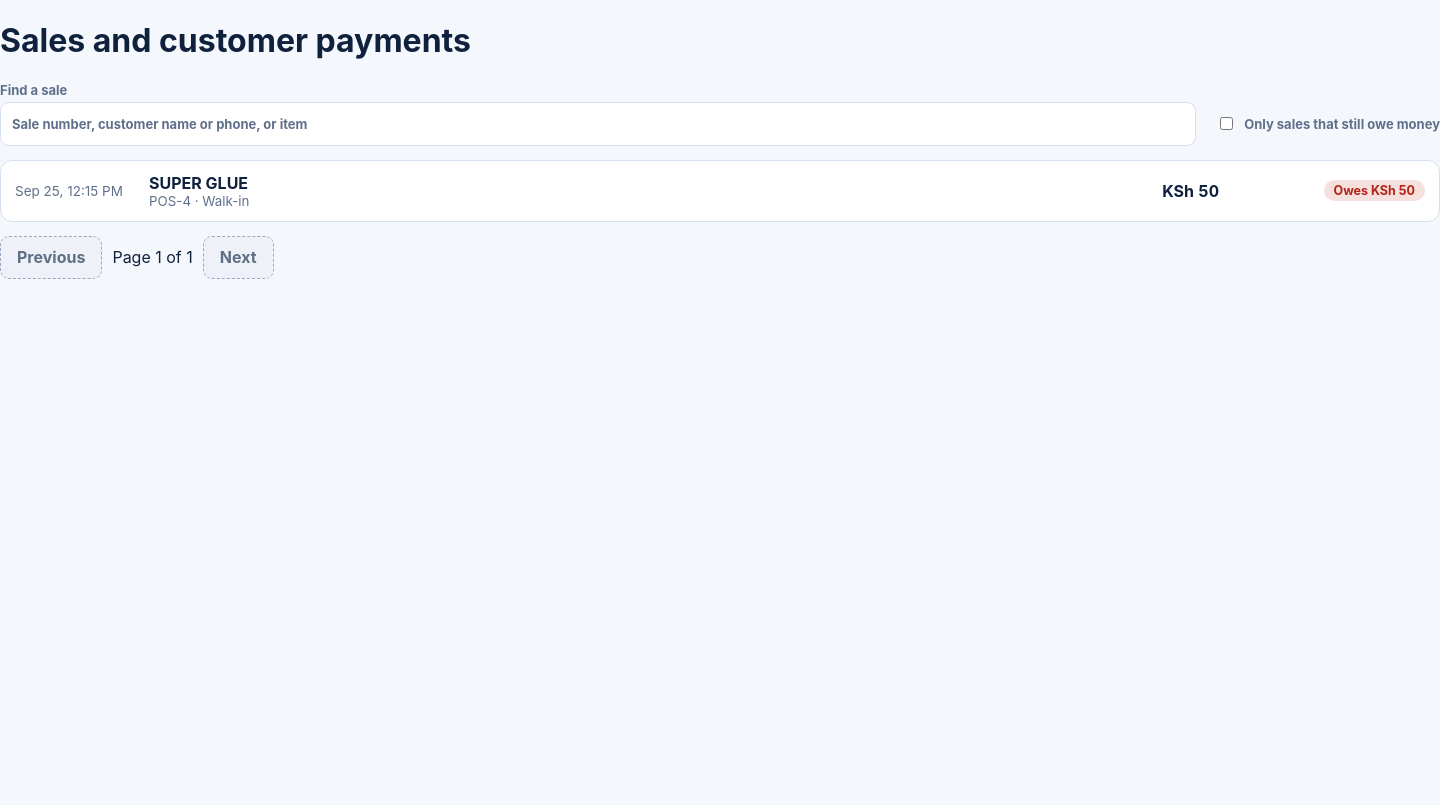
Scenario: lets a Walk-in debt be put under the customer who owes it
The image size is (1440, 805).
Click the heading that starts with "Sep 25, 12:15 PM". click: (69, 191)
box: [1,161,1439,221]
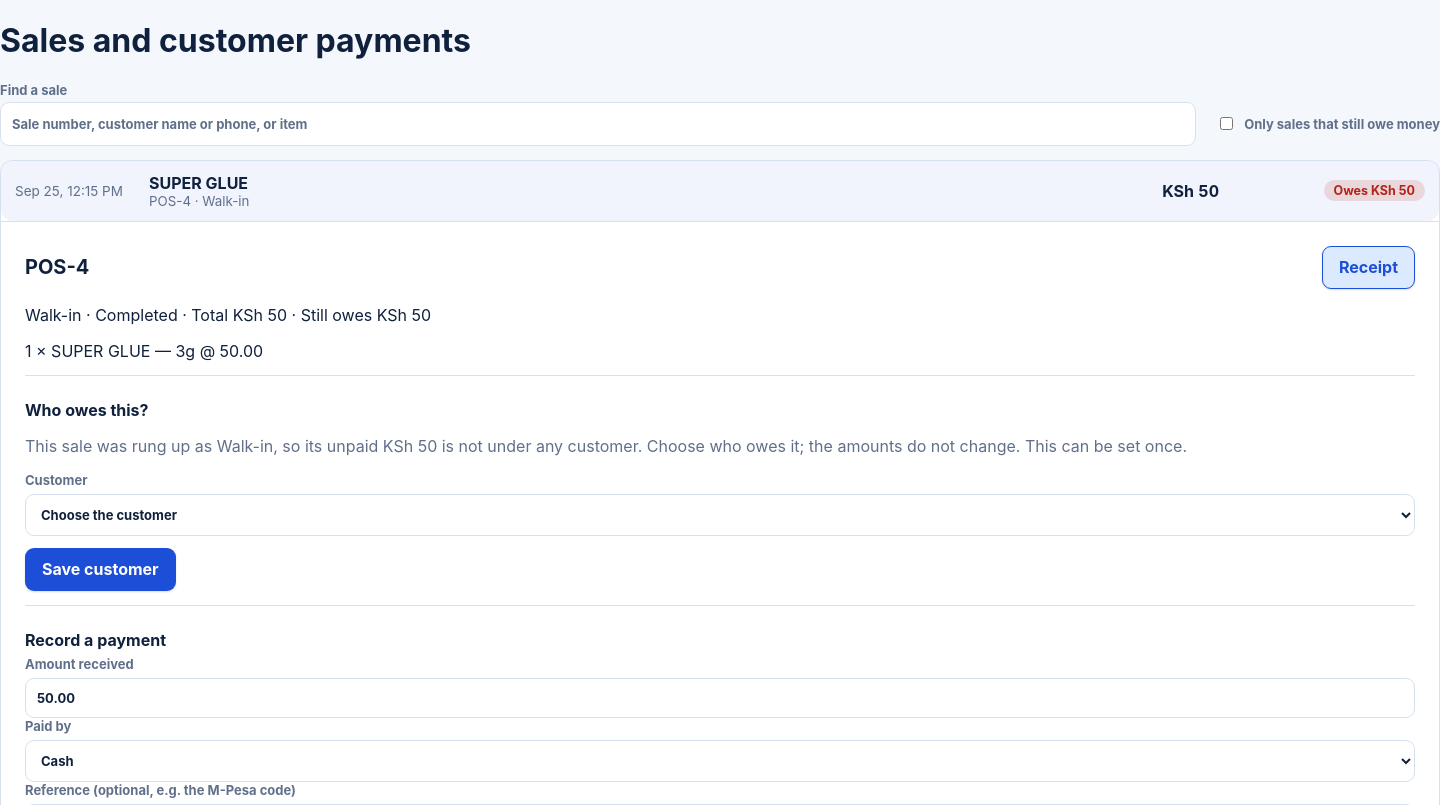
Select "John Otieno · 0712345678" in the dropdown labelled "Customer". click: (720, 515)
box: [25,494,1415,536]
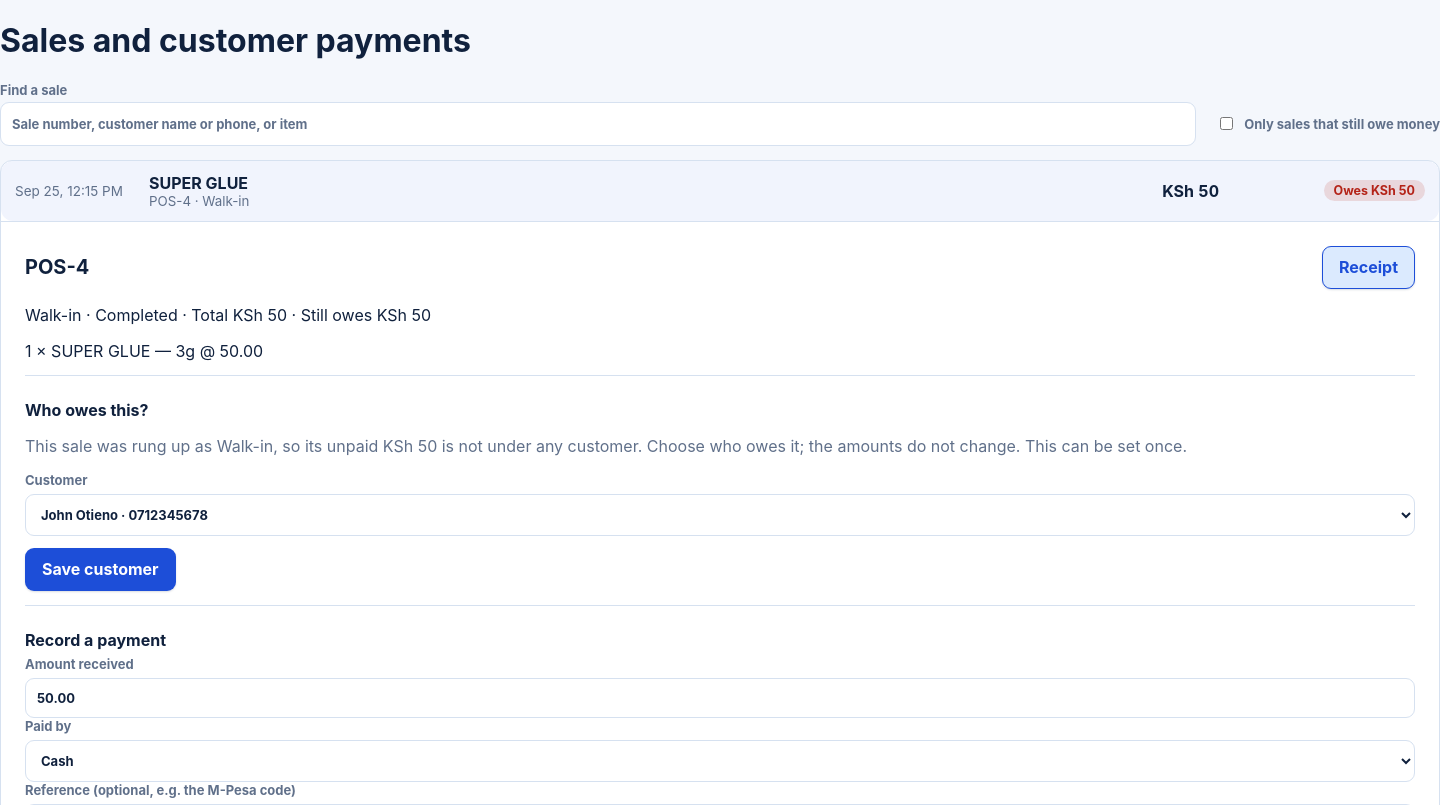
Click the button "Save customer". click: (100, 570)
box: [25,548,176,591]
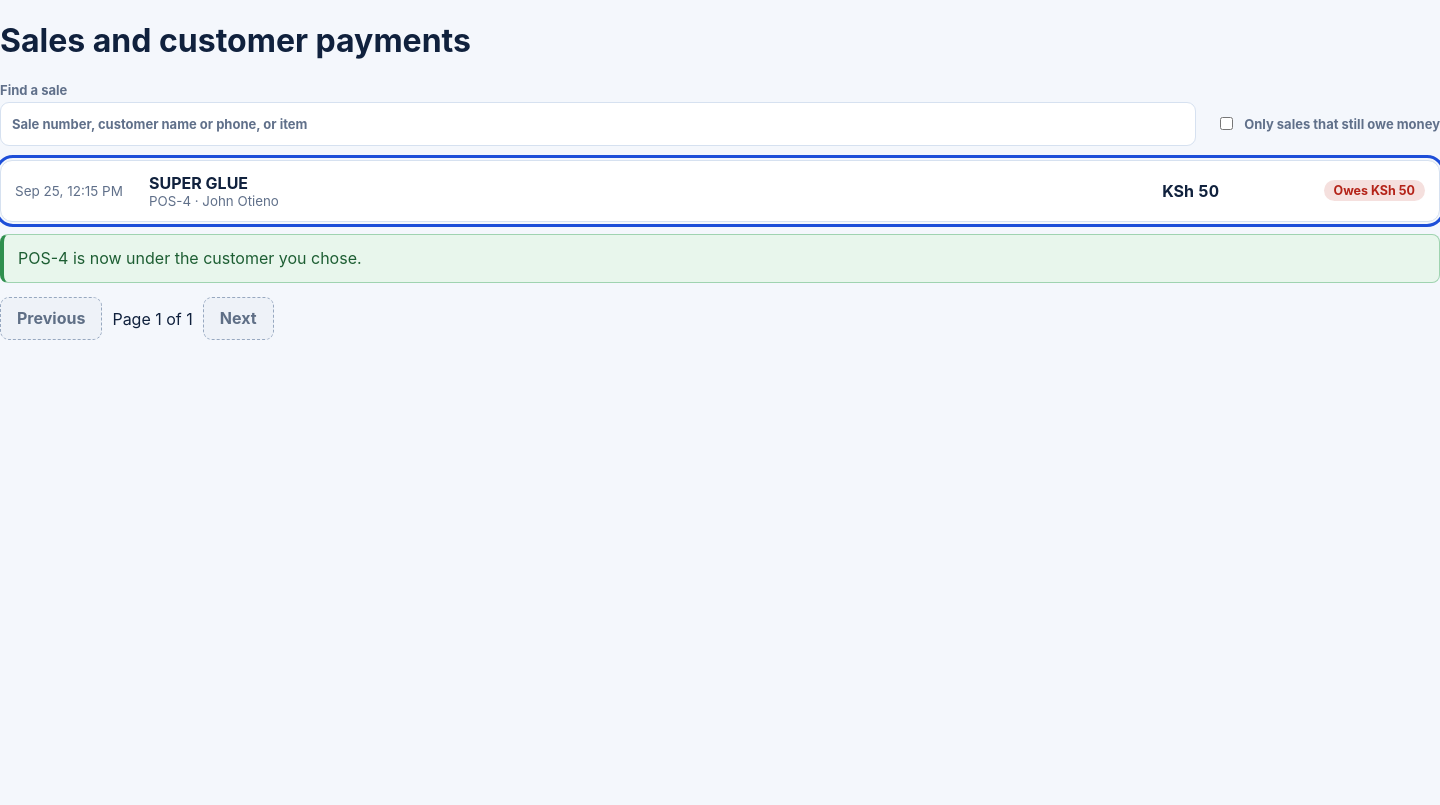
Check: the message reads "POS-4 is now under the customer you chose.", box [18,248,362,268]
Check: the heading that starts with "Sep 25, 12:15 PM" shows "John Otieno", box [1,161,1439,221]
Check: the heading "Who owes this?" is gone
